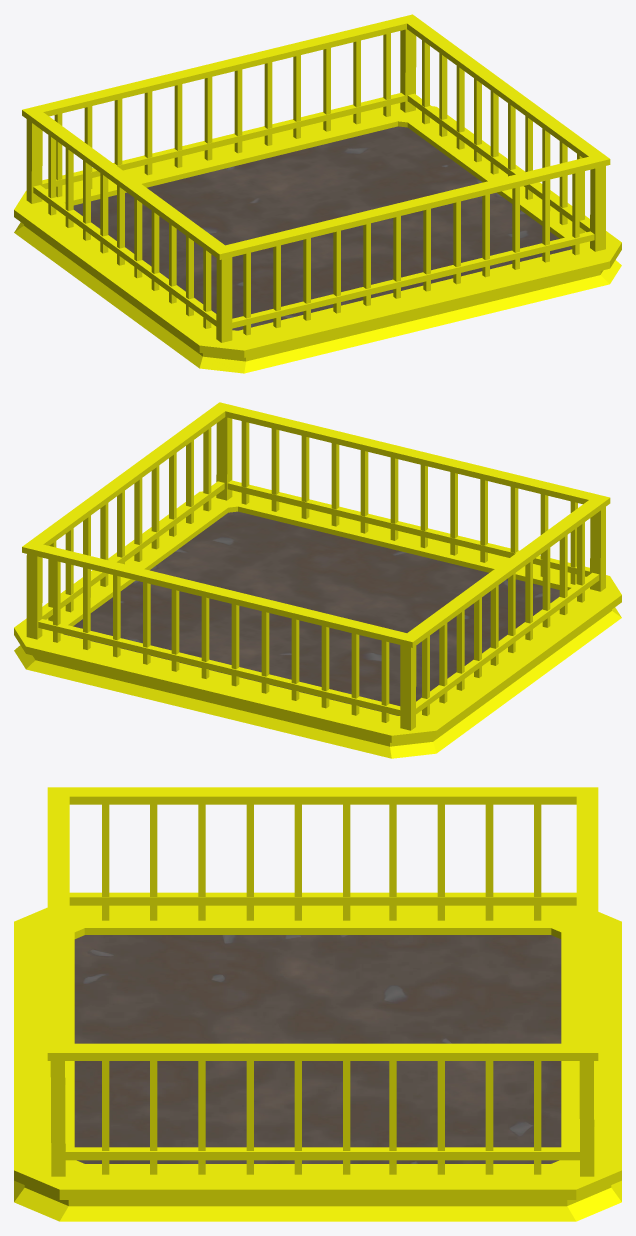
Rendered from sidewalk-planter.glb.
The picture shows the model from 3 angles, top to bottom: view 1: azimuth 30°, elevation 25°; view 2: azimuth 150°, elevation 25°; view 3: azimuth 270°, elevation 25°; orthographic projection. The views are drawn at different scales.
Visible parts, largest first — view 1: Sidewalk_Planter; view 2: Sidewalk_Planter; view 3: Sidewalk_Planter.
Part boxes in pixels (<box>): Sidewalk_Planter: <box>14,14,621,373</box>; Sidewalk_Planter: <box>14,402,621,758</box>; Sidewalk_Planter: <box>14,787,621,1221</box>.
Bounding box in the file's own units: 1.97 × 0.5057 × 1.77.
Materials: 2 (1 with a texture image).
